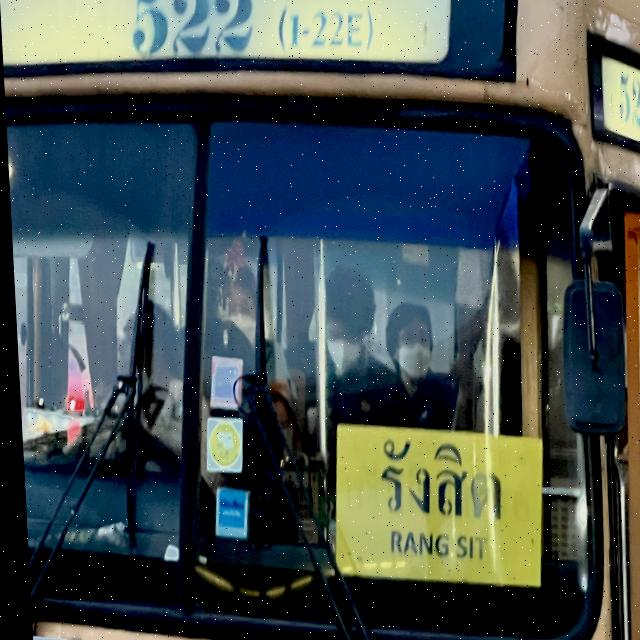BMTA-bus: (0, 0, 640, 640)
Bus Line Number: (95, 0, 393, 57)
Destination Sign: (324, 420, 543, 594)
